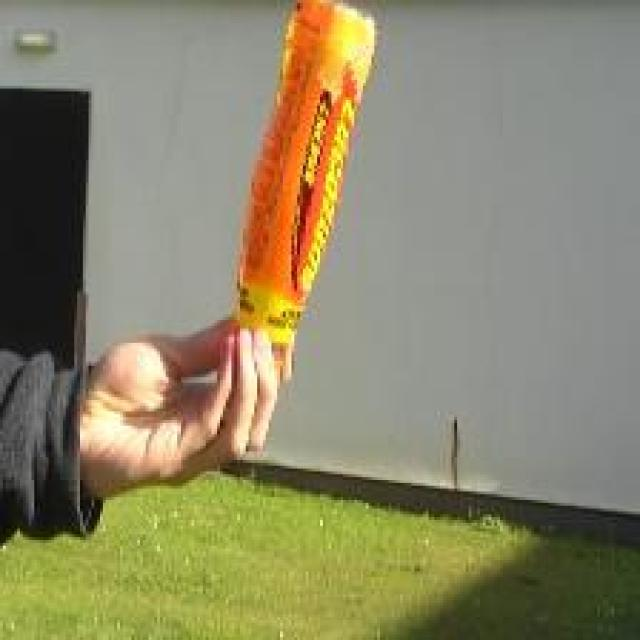other: (182, 1, 394, 372)
